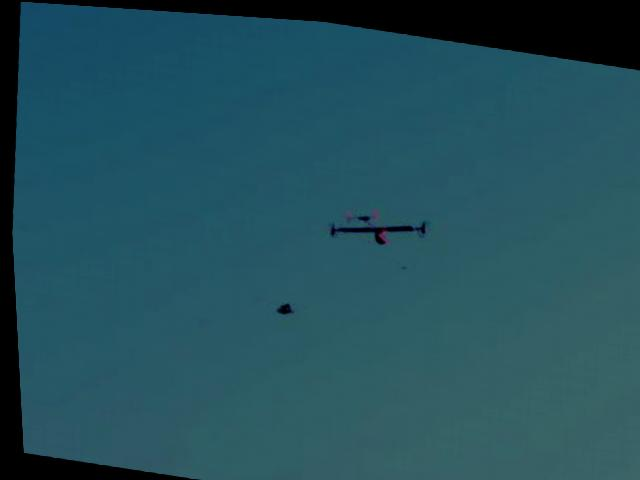uav: (319, 189, 431, 257)
